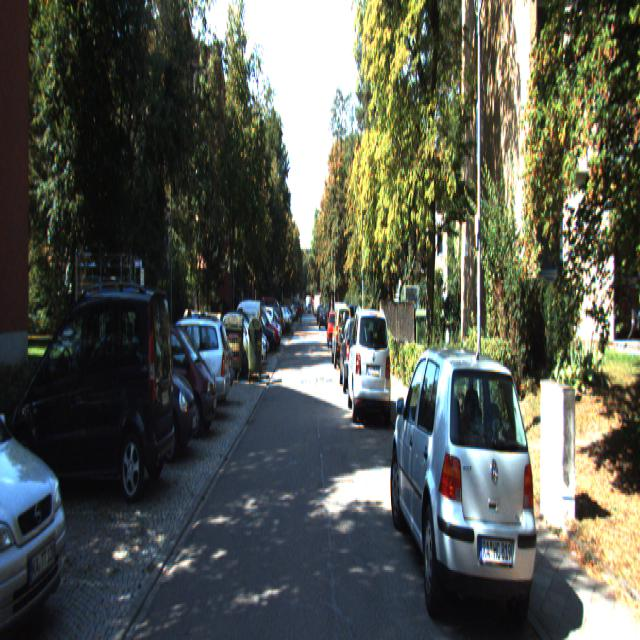Car: (385, 333, 544, 638), (14, 268, 177, 502), (0, 320, 80, 639), (84, 318, 199, 468), (134, 310, 231, 424), (130, 316, 219, 439), (347, 305, 392, 429), (338, 315, 371, 390), (225, 300, 261, 367), (332, 306, 353, 369)
